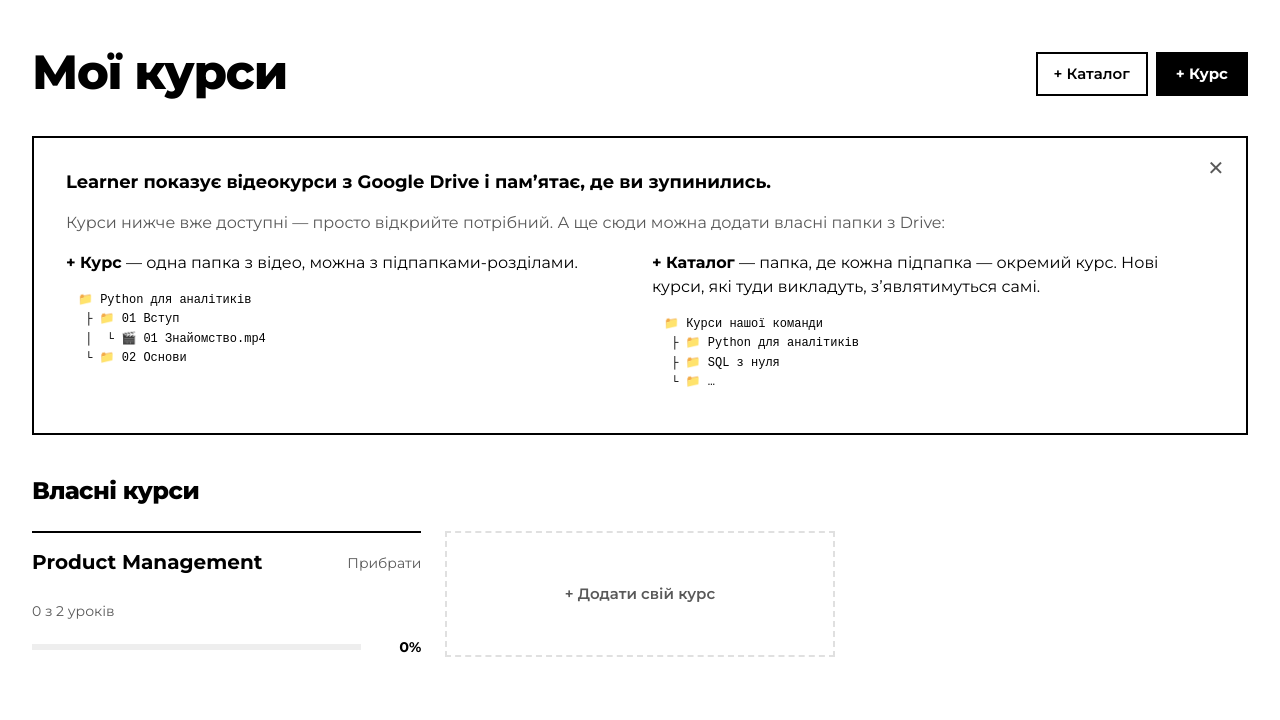
Test: LibraryPage › коли власні курси є, запрошення лишається останньою плиткою
The image size is (1280, 720).
Click the button "+ Додати свій курс" at (640, 594), box [445,531,835,657]
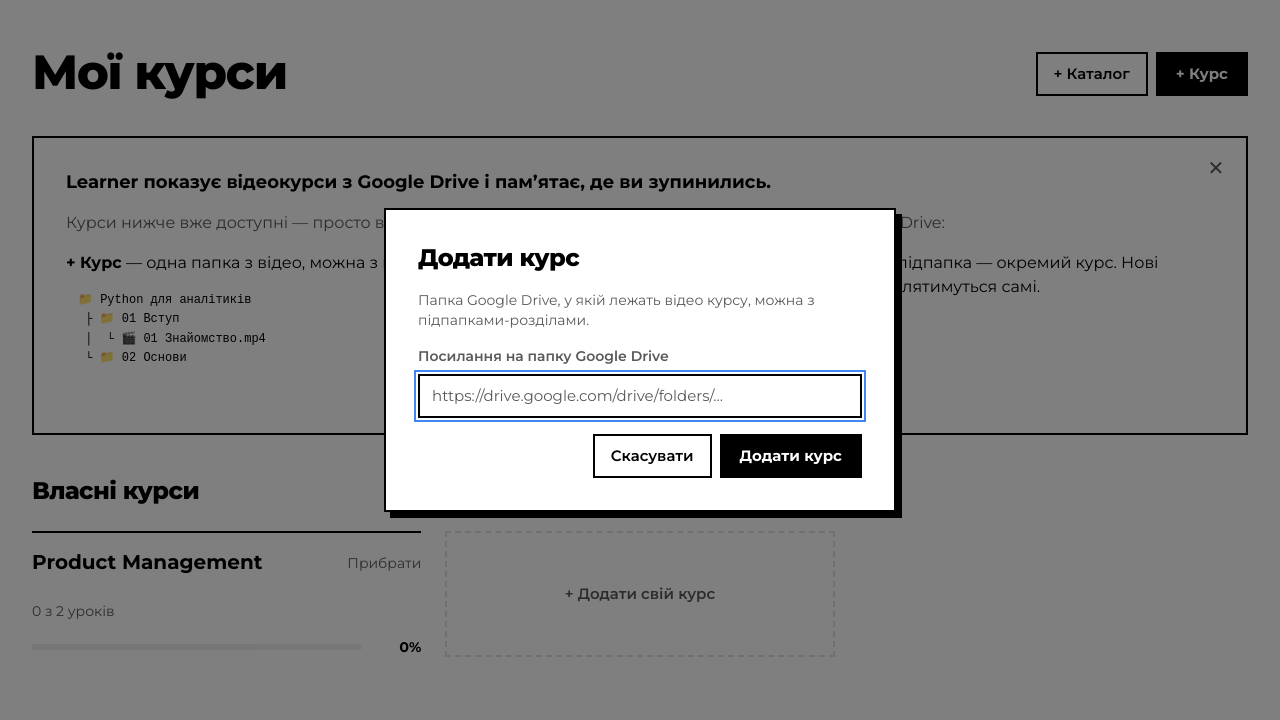
Check: the dialog "Додати курс" is shown, box [384,208,896,512]
